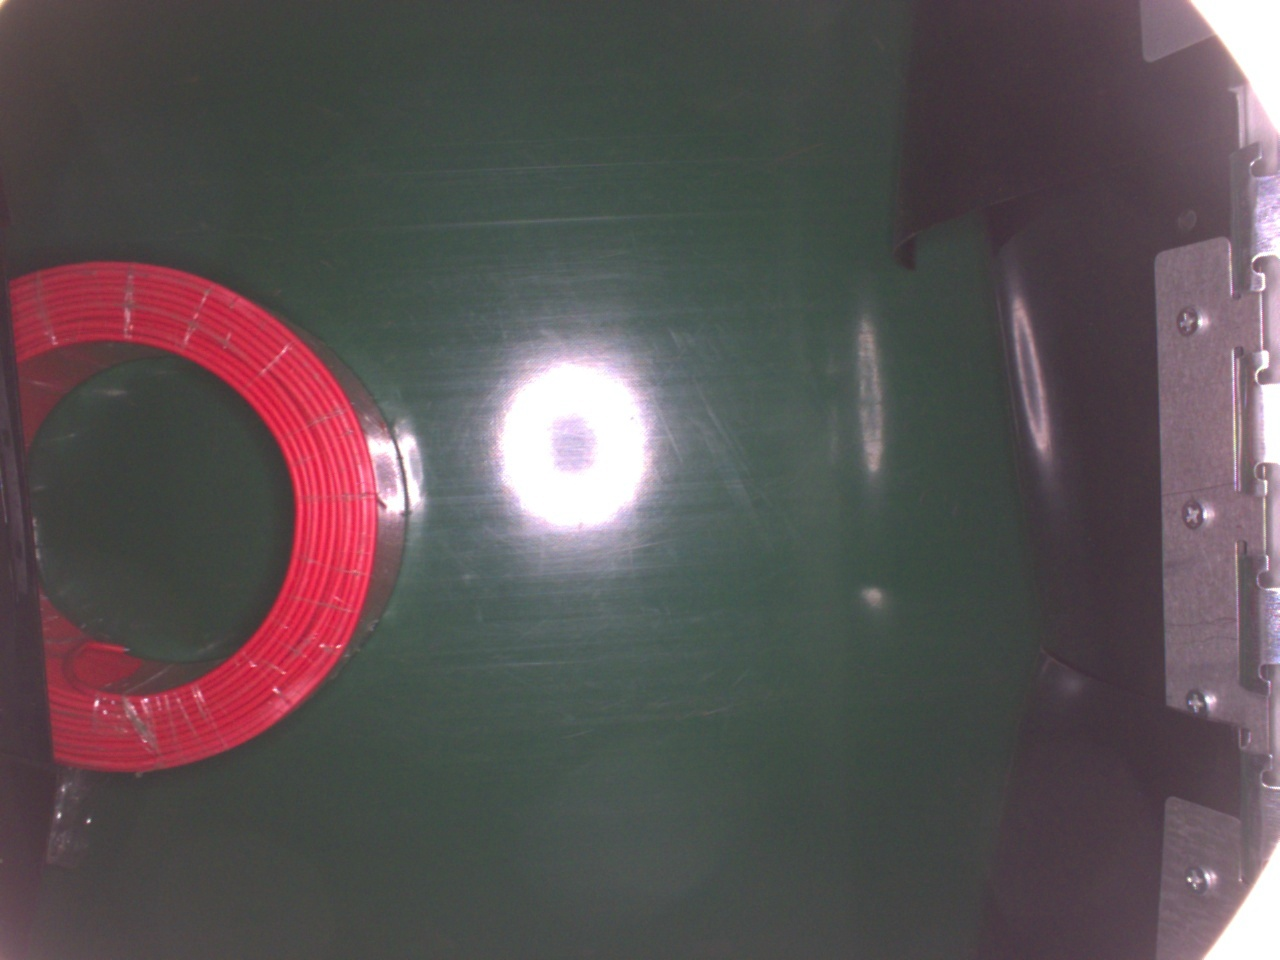red: (9, 259, 405, 772)
